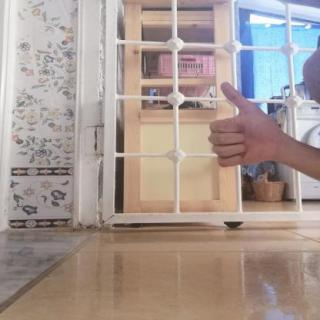ALIF: (194, 74, 290, 174)
